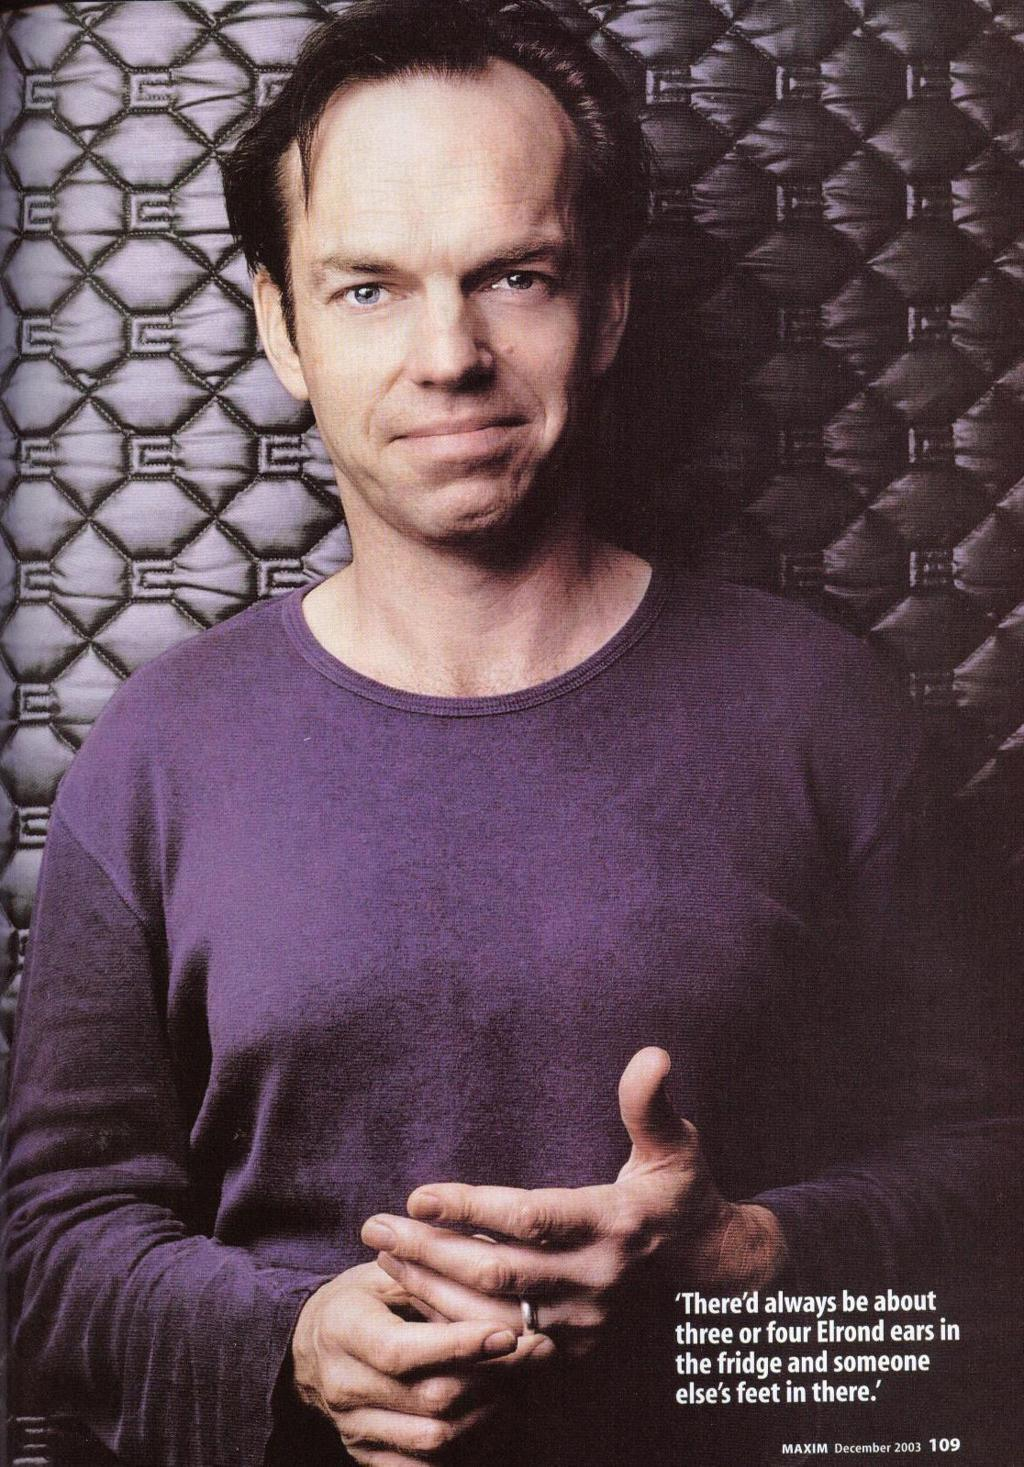face: (281, 113, 587, 528)
